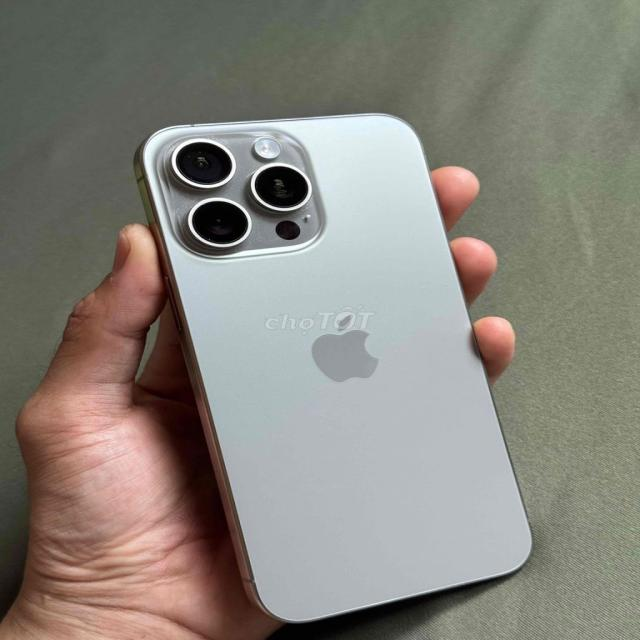gen_15: (100, 95, 561, 629)
